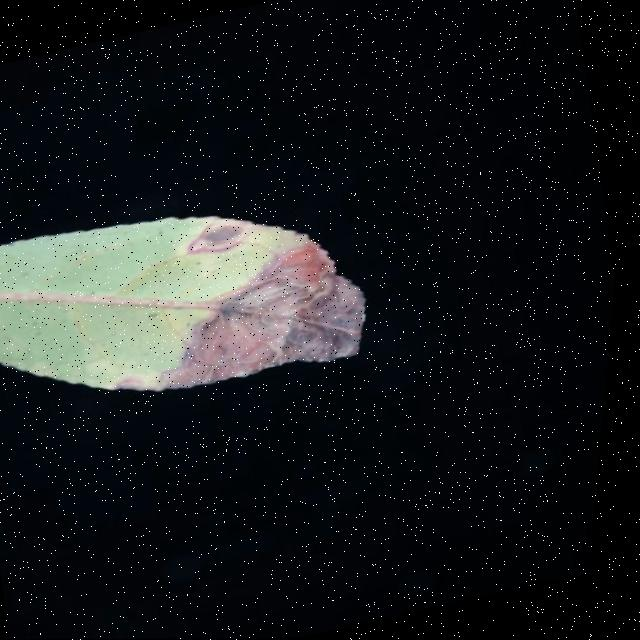Tea cloud leaf blight: (135, 217, 393, 415)
